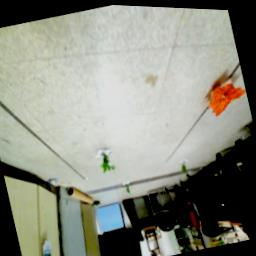herb: (99, 148, 119, 175), (181, 158, 192, 177), (125, 180, 134, 195)
wild: (203, 77, 252, 119)
